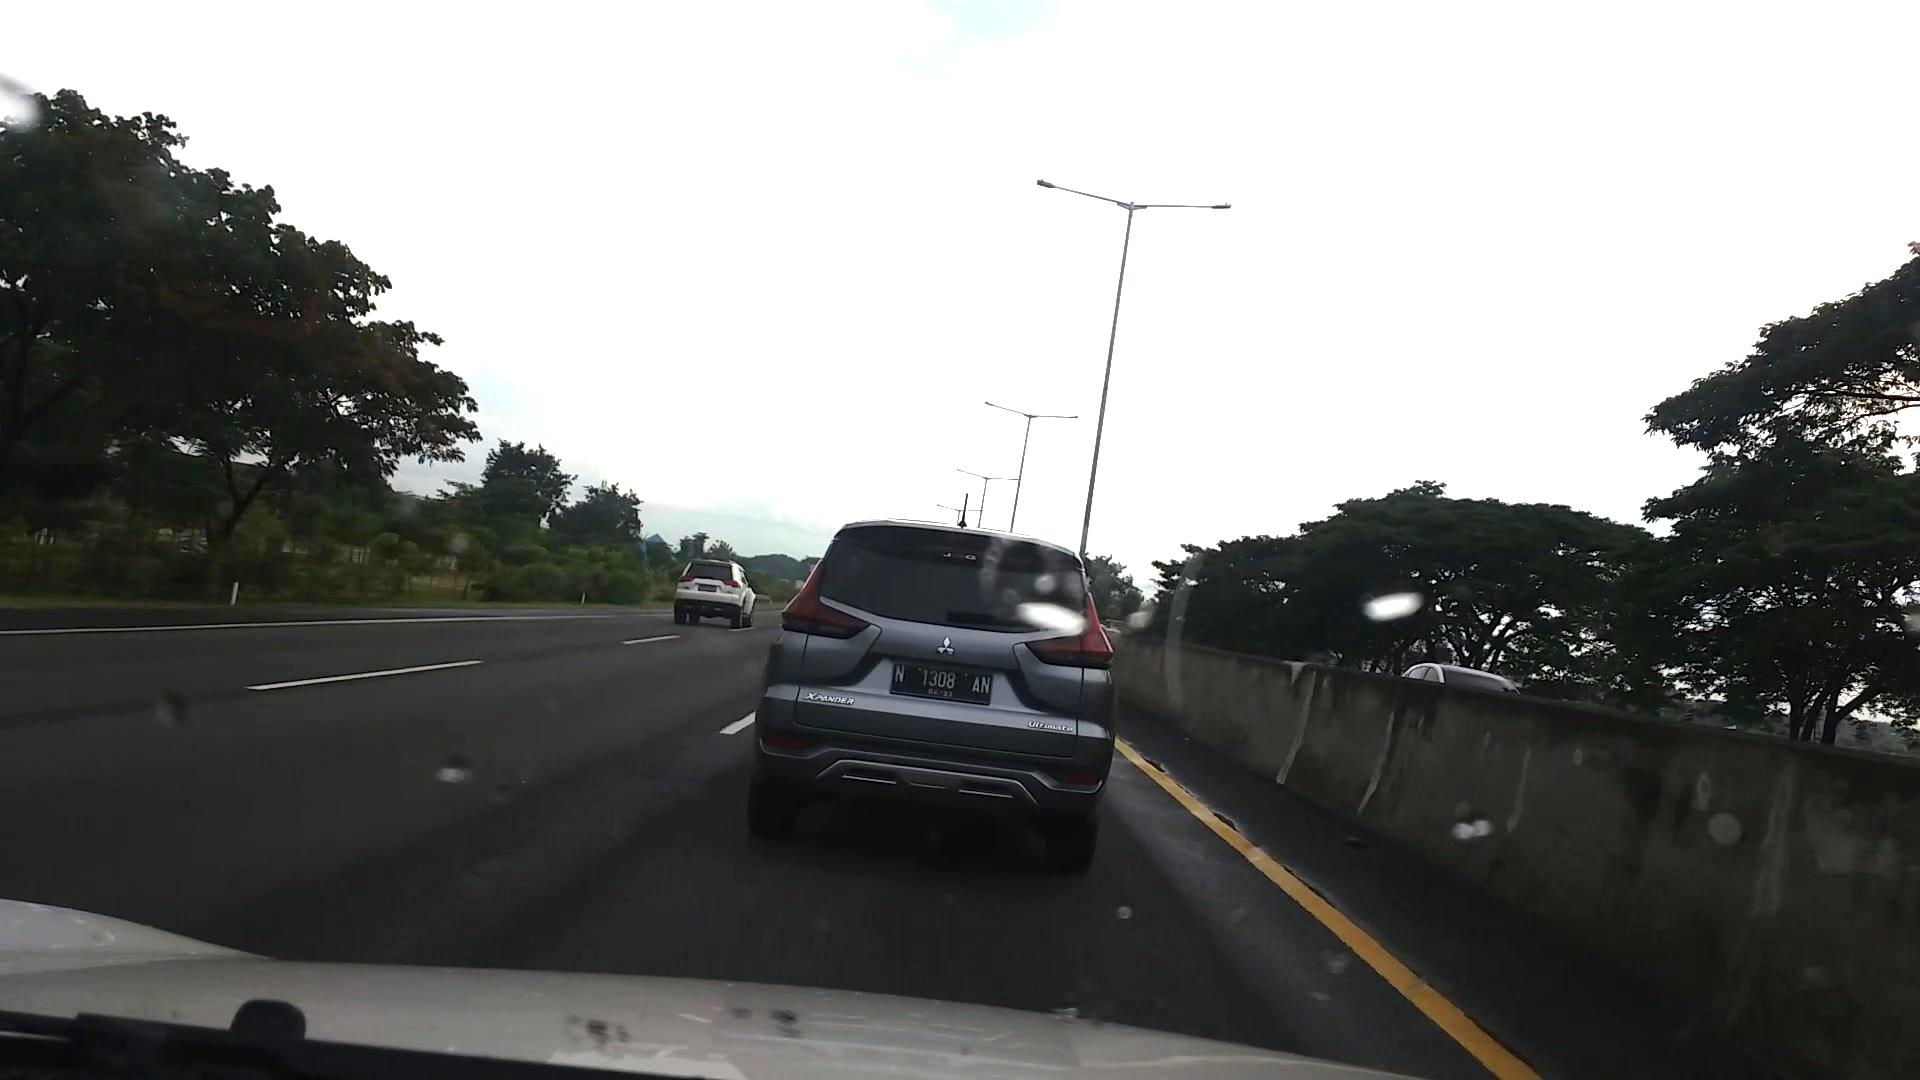plate_positive: (890, 661, 992, 700)
